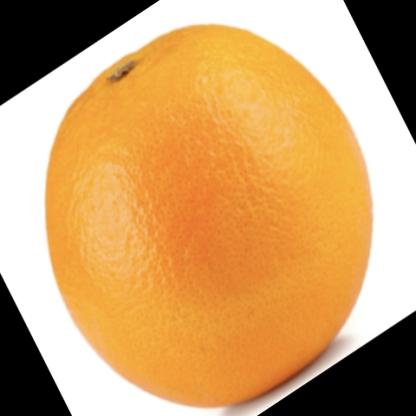fresh: (48, 24, 374, 407)
